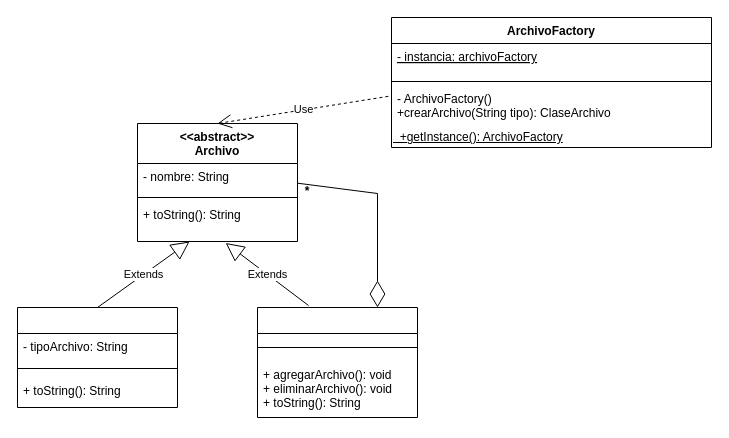
This 729x438 diagram has some shape labels left out. Each missing label, with the box of its shape:
ArchivoConcreto: (16, 306, 178, 408)
Carpeta: (256, 306, 418, 418)
